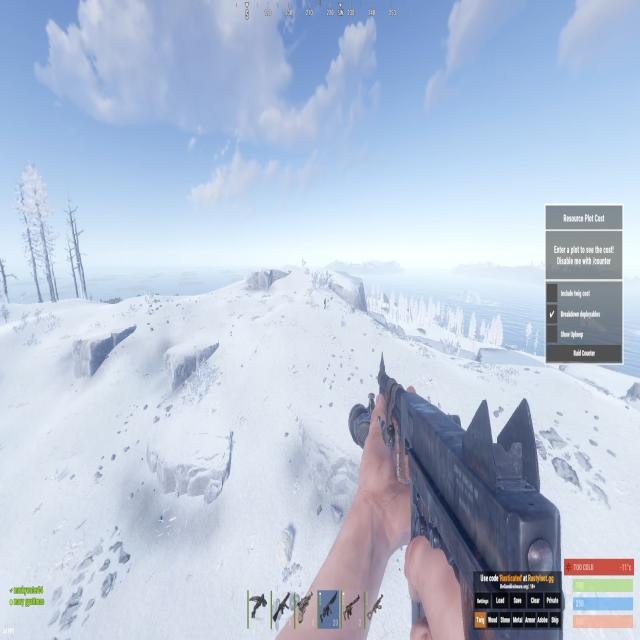Player: (324, 298, 326, 310)
